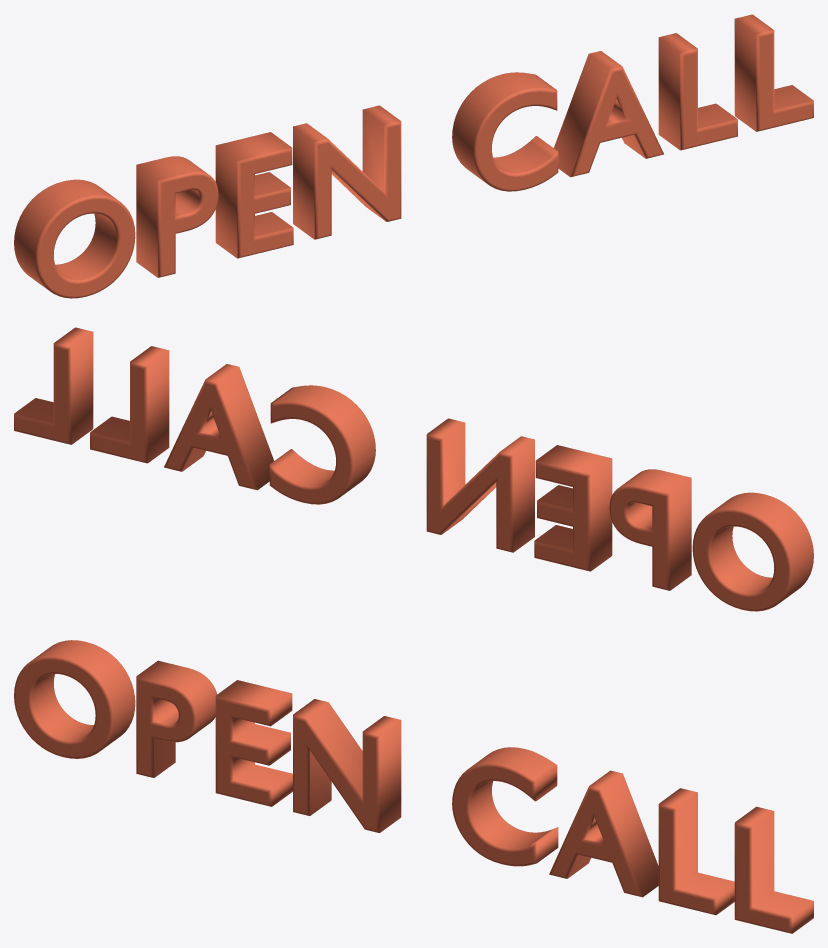
Rendered from opencall-text.fbx.
The picture shows the model from 3 angles, top to bottom: view 1: azimuth 30°, elevation 25°; view 2: azimuth 150°, elevation 25°; view 3: azimuth 330°, elevation 25°; orthographic projection.
Visible parts, largest first — view 1: Text.001; view 2: Text.001; view 3: Text.001.
Boxes of the visible parts, x1,y1,x2,y2 form: Text.001: (14, 14, 813, 298); Text.001: (14, 327, 813, 611); Text.001: (14, 640, 813, 933).
Bounding box in the file's own units: 603 × 74.01 × 32.
